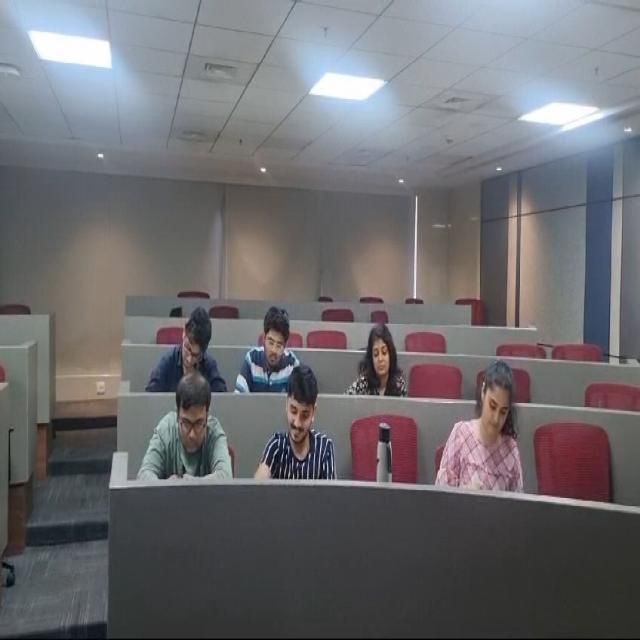cheating: (251, 377, 340, 486), (154, 381, 234, 488)
non-cheating: (456, 356, 523, 496), (147, 294, 227, 386), (238, 283, 302, 390), (346, 307, 406, 393)
